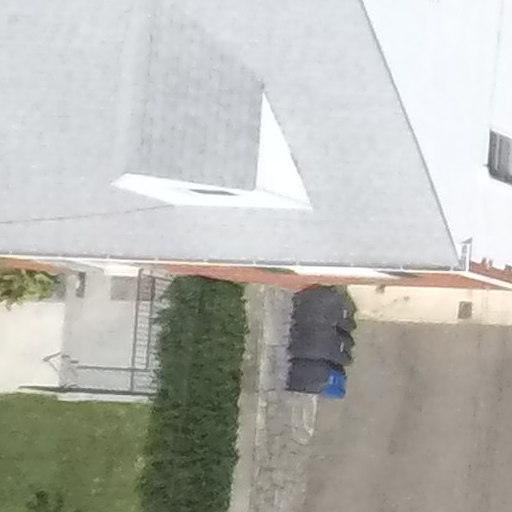trash bin: (287, 283, 365, 332), (284, 319, 360, 367), (281, 356, 349, 402)
